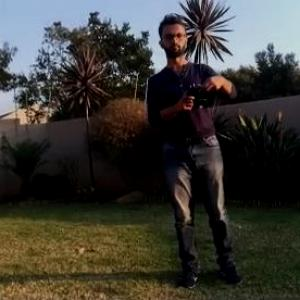follow: (145, 5, 251, 292)
